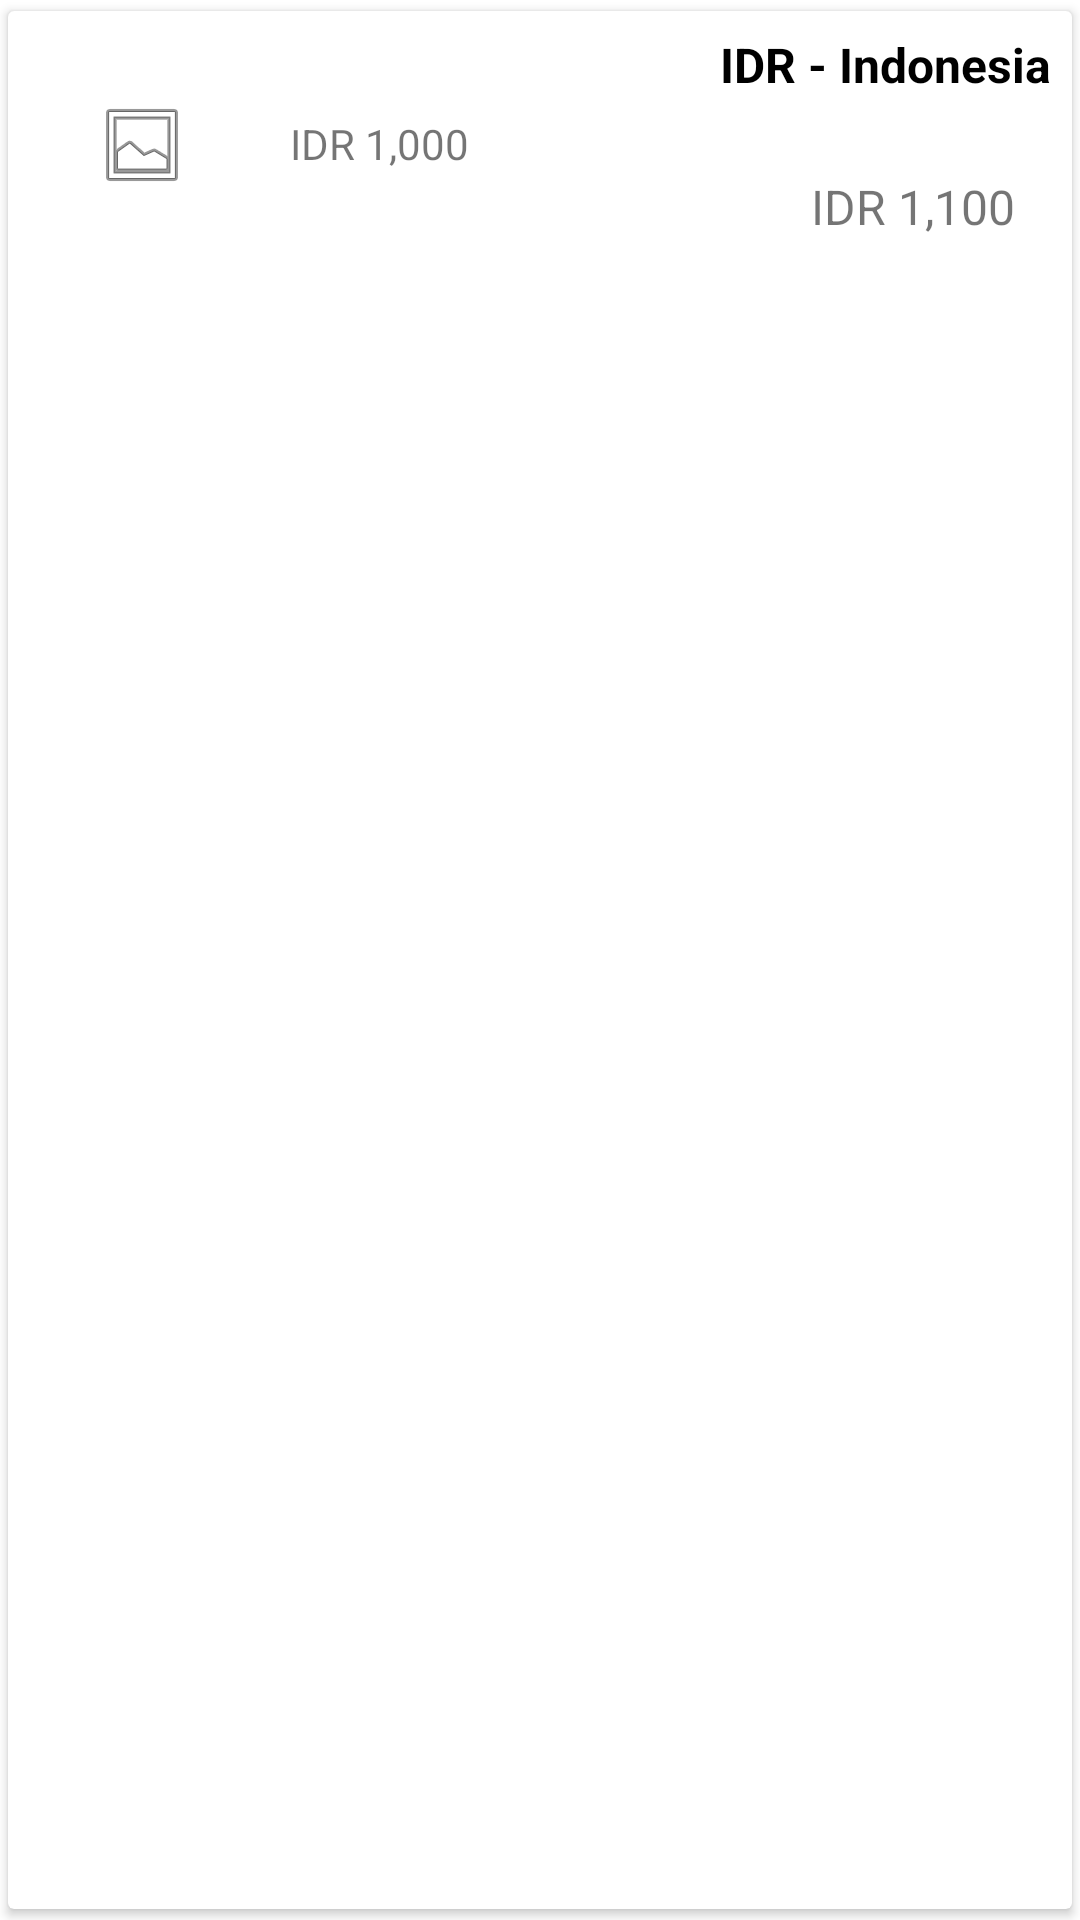

Screen size 1080px×1920px. Icon name, then its box in pixels as bbox(x1, y1, x2, y2):
gallery: bbox(106, 109, 178, 181)
